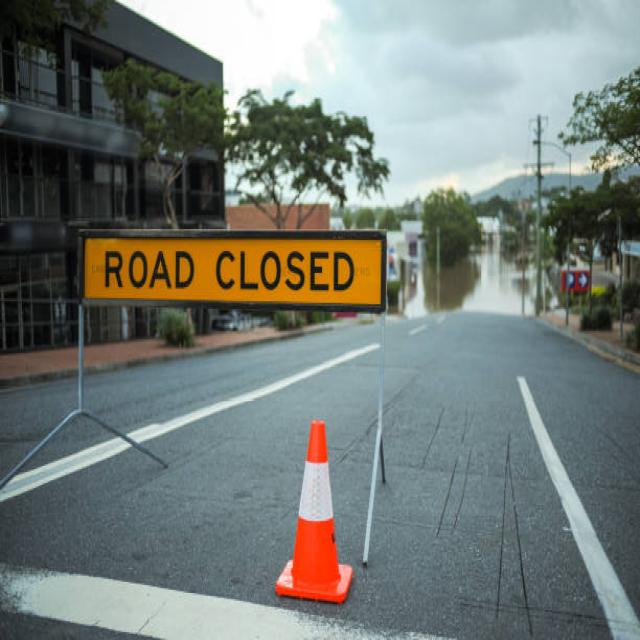Traffic Cone: (258, 398, 368, 622)
